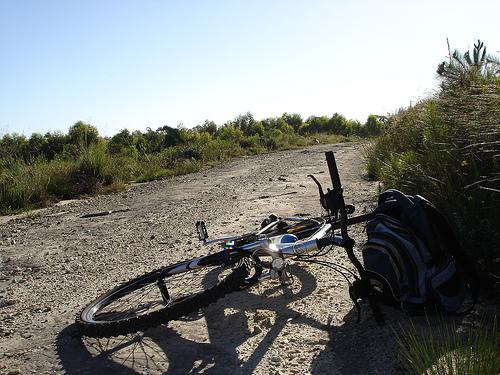car: (74, 152, 386, 339)
